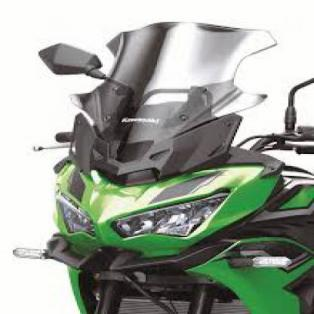Motocicleta: (7, 15, 312, 313)
